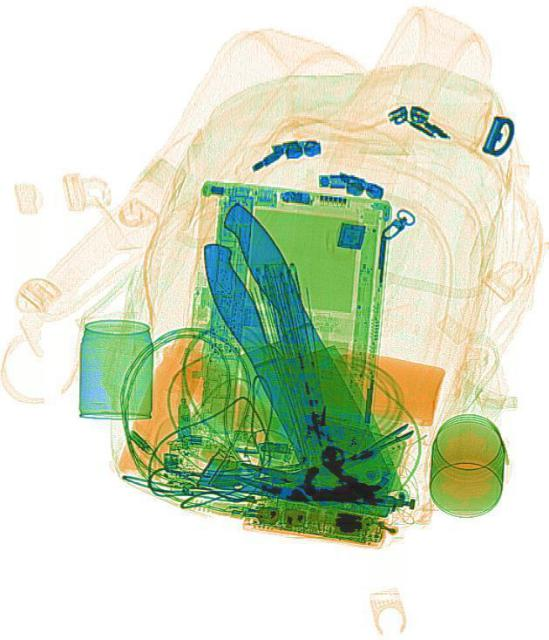Knife: (171, 189, 392, 521), (190, 207, 405, 528)
